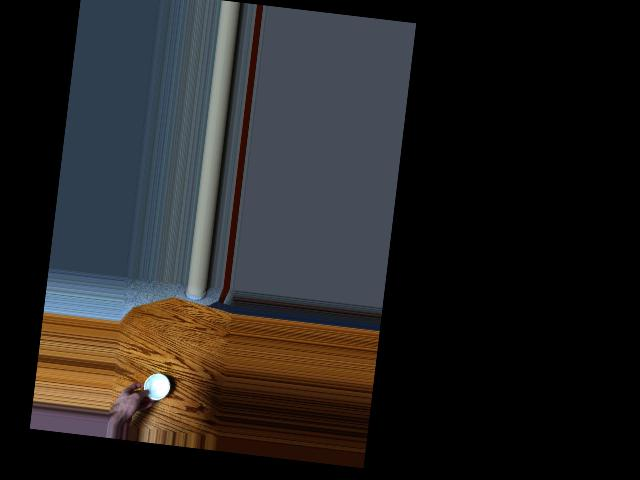cotage: (141, 372, 171, 403)
